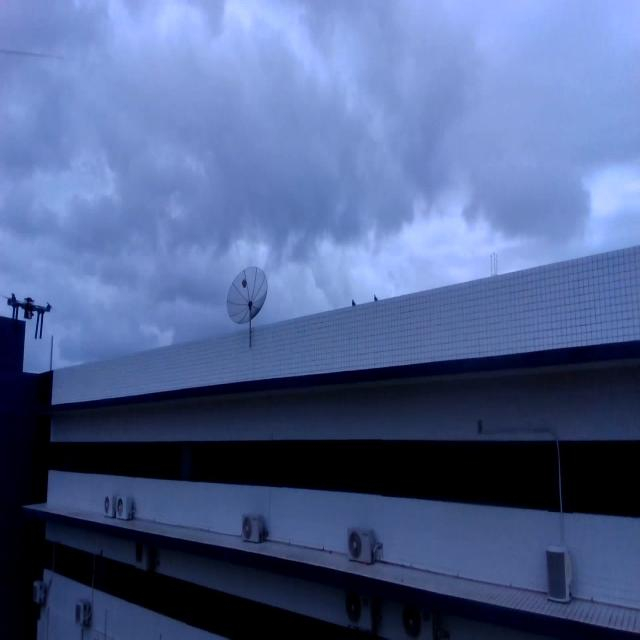-uav-: (3, 282, 61, 357)
